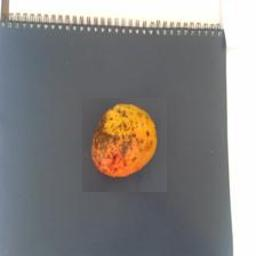Mango Rotten: (82, 98, 167, 192)
